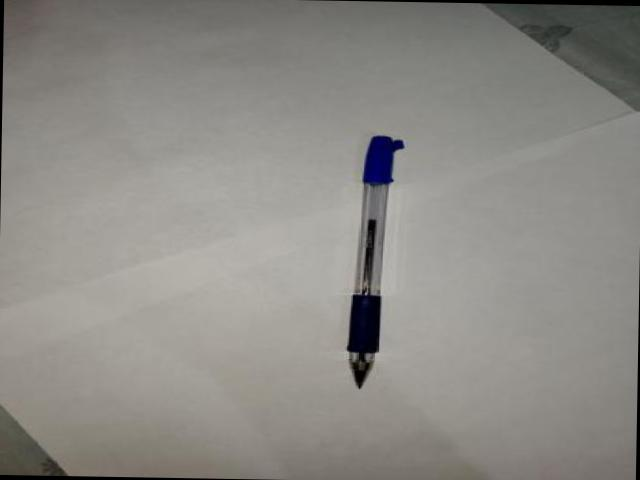PEN: (345, 129, 402, 398)
